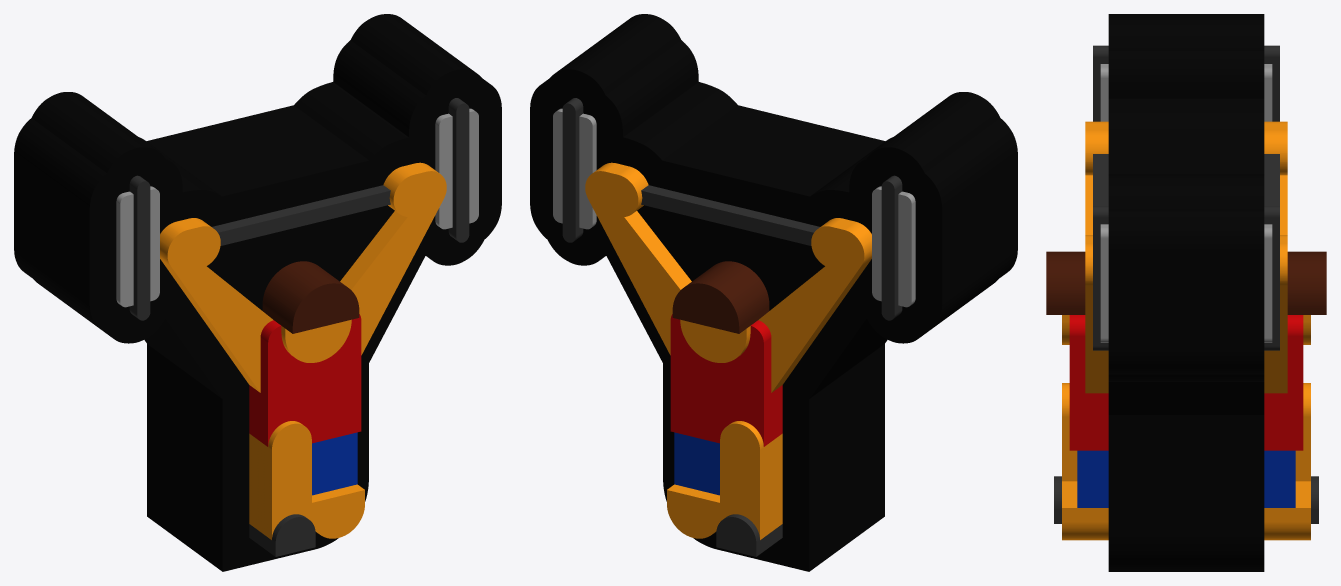
The picture shows the model from 3 angles, left to right: view 1: azimuth 30°, elevation 25°; view 2: azimuth 150°, elevation 25°; view 3: azimuth 270°, elevation 25°; orthographic projection. The views are drawn at different scales.
Visible parts, largest first — view 1: U+1F3CB_layer00_obj00, U+1F3CB_layer03_obj00, U+1F3CB_layer06_obj00, U+1F3CB_layer05_obj00, U+1F3CB_layer02_obj00, U+1F3CB_layer01_obj00, U+1F3CB_layer08_obj00, U+1F3CB_layer04_obj00, U+1F3CB_layer07_obj00; view 2: U+1F3CB_layer00_obj00, U+1F3CB_layer03_obj00, U+1F3CB_layer06_obj00, U+1F3CB_layer05_obj00, U+1F3CB_layer02_obj00, U+1F3CB_layer01_obj00, U+1F3CB_layer08_obj00, U+1F3CB_layer04_obj00, U+1F3CB_layer07_obj00; view 3: U+1F3CB_layer00_obj00, U+1F3CB_layer05_obj00, U+1F3CB_layer03_obj00, U+1F3CB_layer06_obj00, U+1F3CB_layer02_obj00, U+1F3CB_layer08_obj00, U+1F3CB_layer04_obj00, U+1F3CB_layer01_obj00, U+1F3CB_layer07_obj00.
Part boxes in pixels (x1,y1,x2,y2): U+1F3CB_layer00_obj00: (14, 14, 501, 571); U+1F3CB_layer03_obj00: (160, 162, 446, 392); U+1F3CB_layer06_obj00: (249, 319, 364, 539); U+1F3CB_layer05_obj00: (249, 314, 361, 446); U+1F3CB_layer02_obj00: (129, 98, 469, 320); U+1F3CB_layer01_obj00: (116, 108, 478, 307); U+1F3CB_layer08_obj00: (262, 261, 359, 333); U+1F3CB_layer04_obj00: (312, 432, 357, 495); U+1F3CB_layer07_obj00: (249, 514, 315, 556); U+1F3CB_layer00_obj00: (530, 14, 1017, 571); U+1F3CB_layer03_obj00: (585, 162, 871, 392); U+1F3CB_layer06_obj00: (667, 319, 782, 539); U+1F3CB_layer05_obj00: (670, 314, 782, 446); U+1F3CB_layer02_obj00: (562, 98, 902, 320); U+1F3CB_layer01_obj00: (553, 108, 915, 307); U+1F3CB_layer08_obj00: (672, 261, 769, 333); U+1F3CB_layer04_obj00: (674, 432, 719, 495); U+1F3CB_layer07_obj00: (716, 514, 782, 556); U+1F3CB_layer00_obj00: (1108, 14, 1264, 571); U+1F3CB_layer05_obj00: (1069, 315, 1303, 450); U+1F3CB_layer03_obj00: (1085, 121, 1287, 393); U+1F3CB_layer06_obj00: (1062, 315, 1310, 540); U+1F3CB_layer02_obj00: (1093, 45, 1279, 350); U+1F3CB_layer08_obj00: (1046, 251, 1326, 314); U+1F3CB_layer04_obj00: (1077, 450, 1295, 507); U+1F3CB_layer01_obj00: (1100, 64, 1272, 342); U+1F3CB_layer07_obj00: (1054, 476, 1318, 523).
Bounding box in the file's own units: 0.6288 × 0.649 × 0.36.
